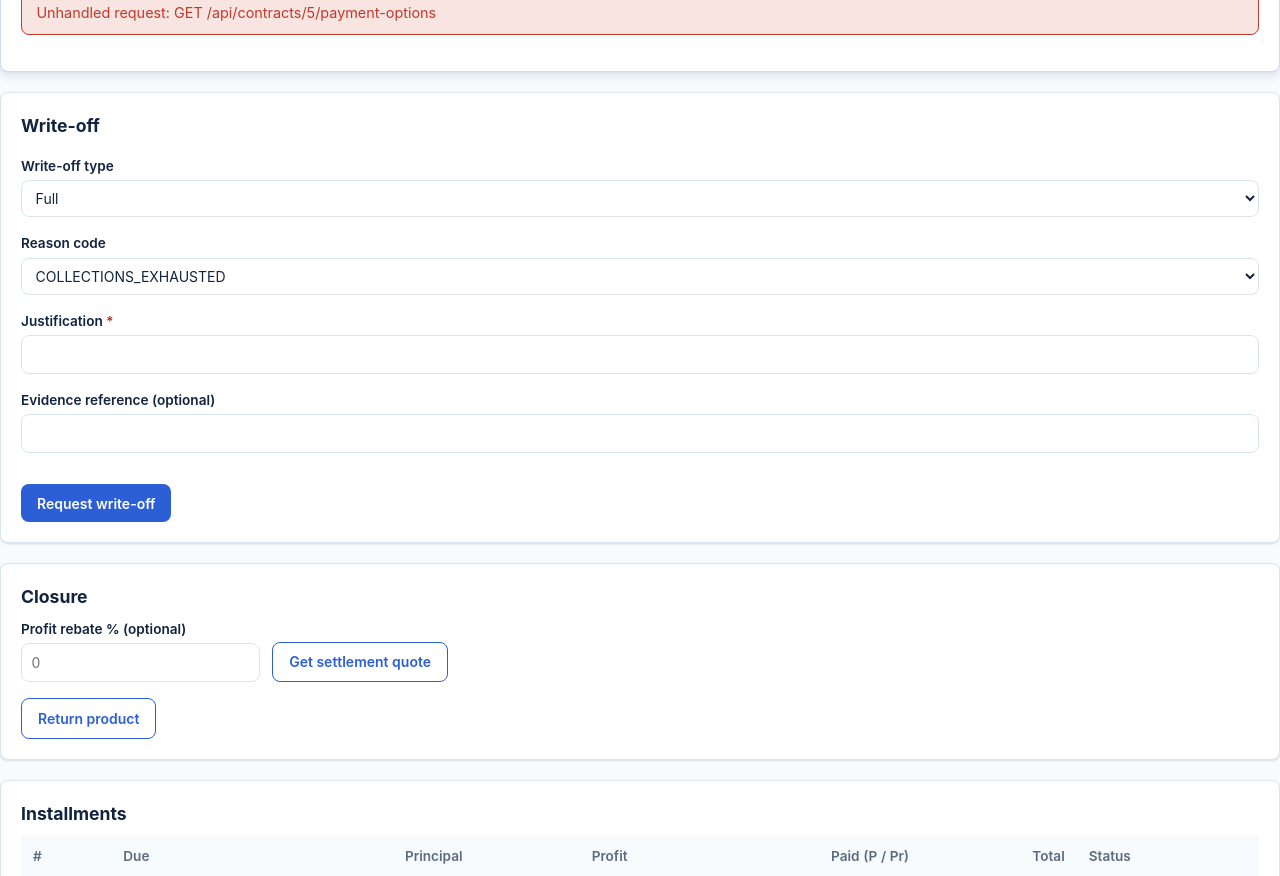
it: Contract settlement — flexible profit rebate (BDR #7) › no rebate: quote is not a deviation and settlement confirms immediately
(page scrolled)
Click the button with test id "get-quote" at (360, 662), box left=272, top=642, right=448, bottom=682
(page scrolled)
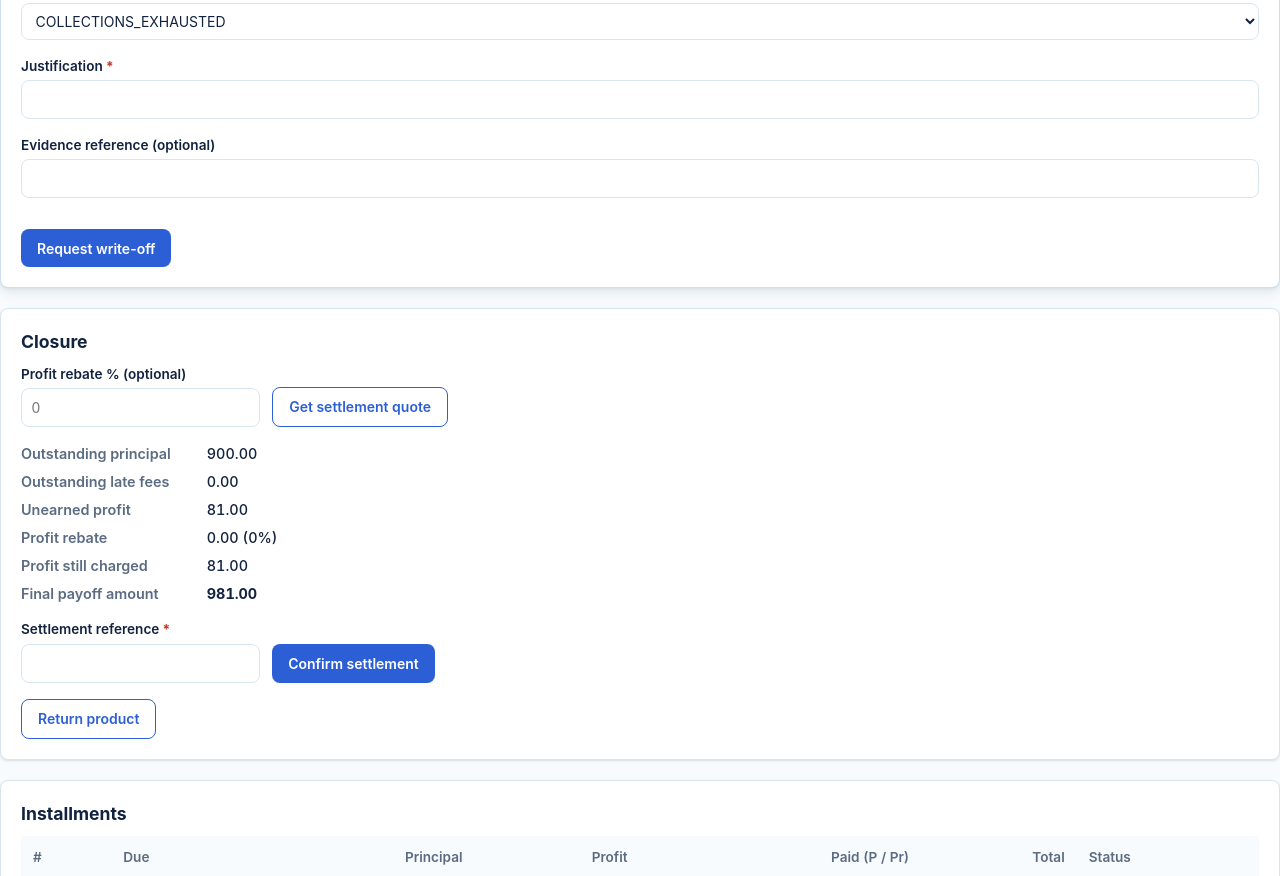
Check: the button with test id "confirm-settlement" reads "Confirm settlement", box left=272, top=644, right=435, bottom=682
Type "REF-1" into the field labelled "Settlement reference" at (141, 663), box left=21, top=644, right=260, bottom=682
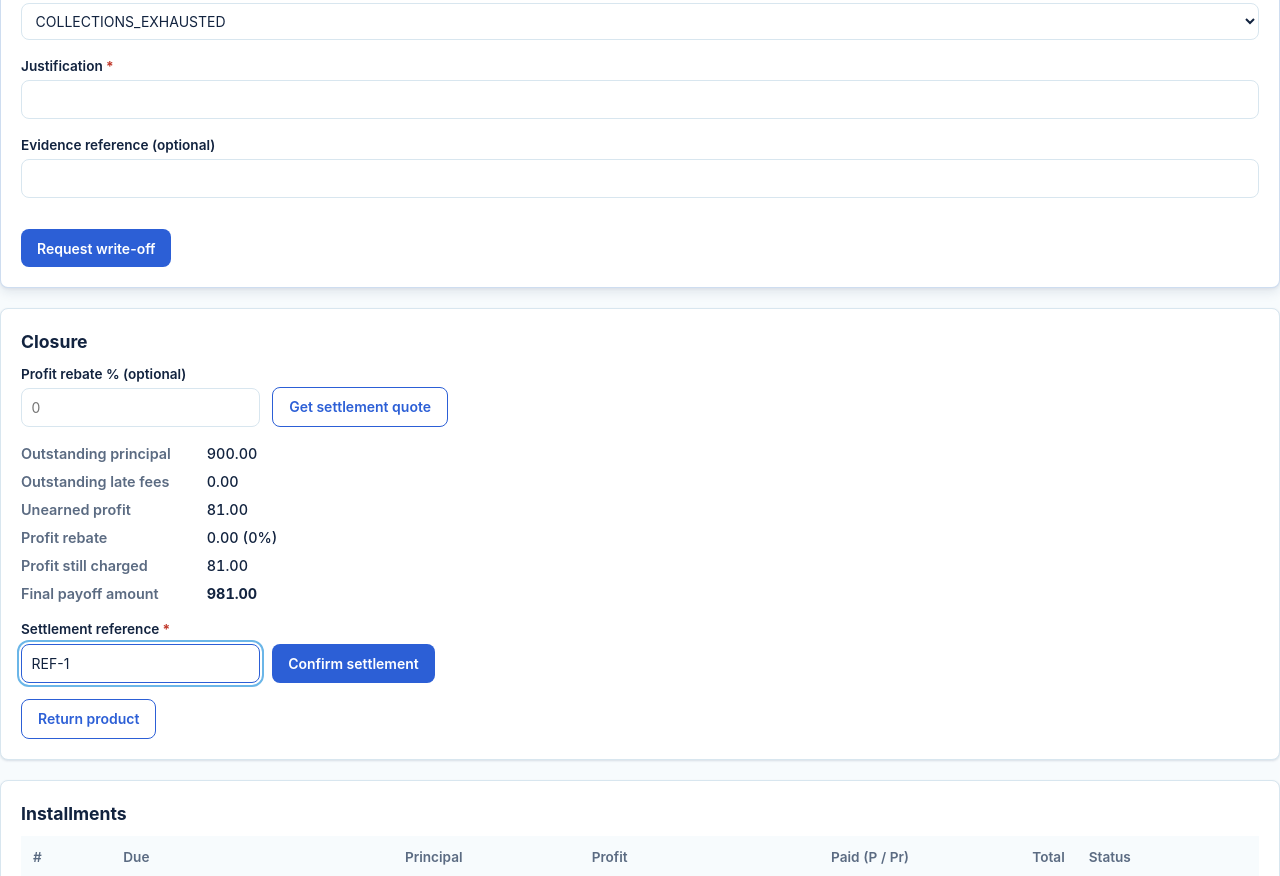
Click the button with test id "confirm-settlement" at (353, 663), box left=272, top=644, right=435, bottom=682
(page scrolled)
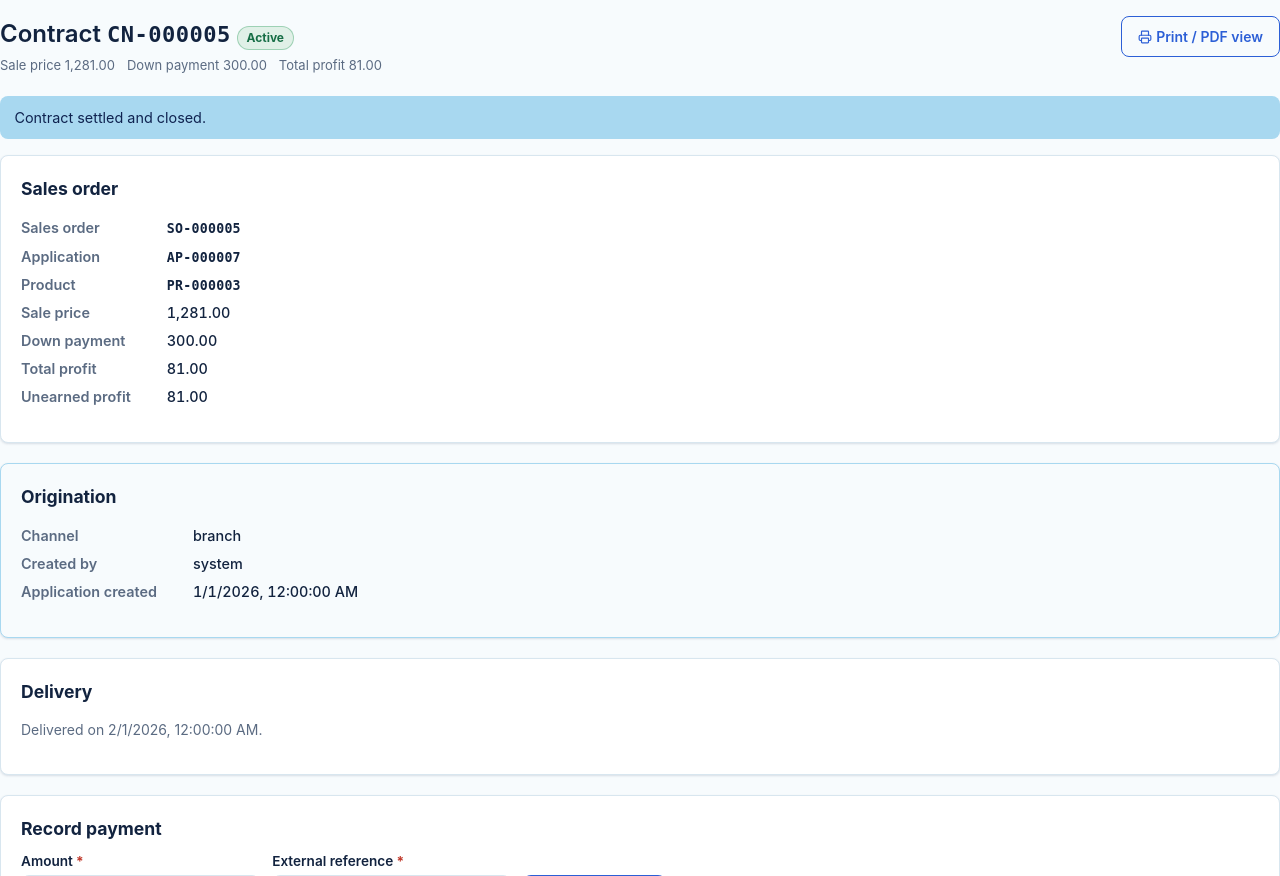
Check: the text "Contract settled and closed." is shown, box left=0, top=96, right=1279, bottom=140
